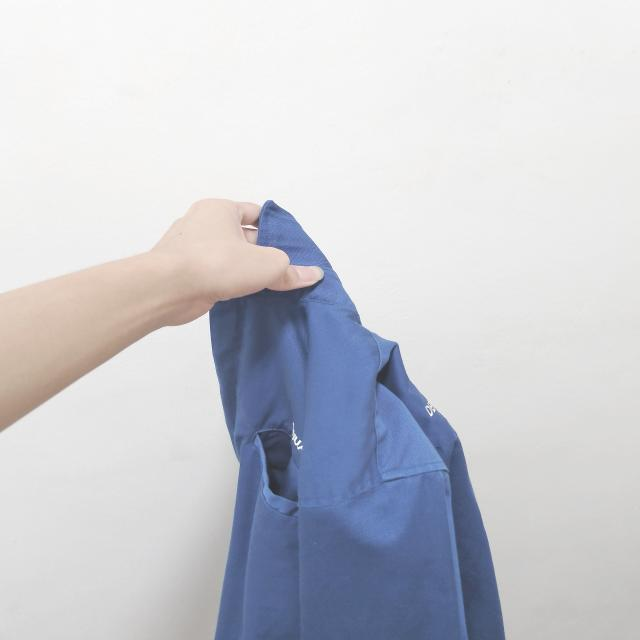person_without_labcoat: (0, 199, 505, 640)
